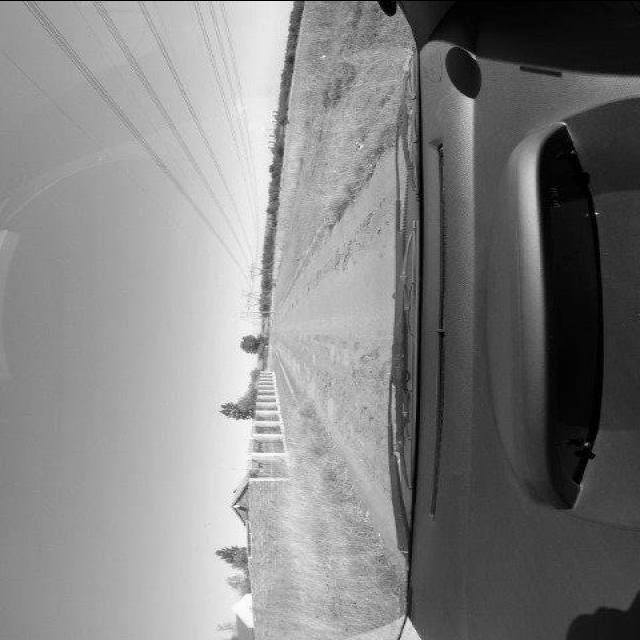lubang: (350, 350, 388, 384), (308, 333, 332, 359), (358, 403, 378, 431), (320, 371, 340, 396), (336, 418, 354, 438), (353, 430, 369, 450), (340, 250, 354, 271), (348, 339, 362, 353), (332, 258, 343, 270), (339, 339, 347, 351)
